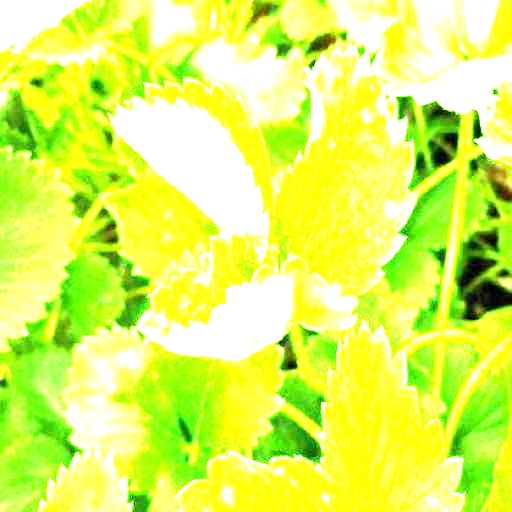Powdery Mildew Leaf: (273, 43, 419, 305), (108, 79, 274, 265), (138, 231, 357, 360), (174, 451, 363, 511)
